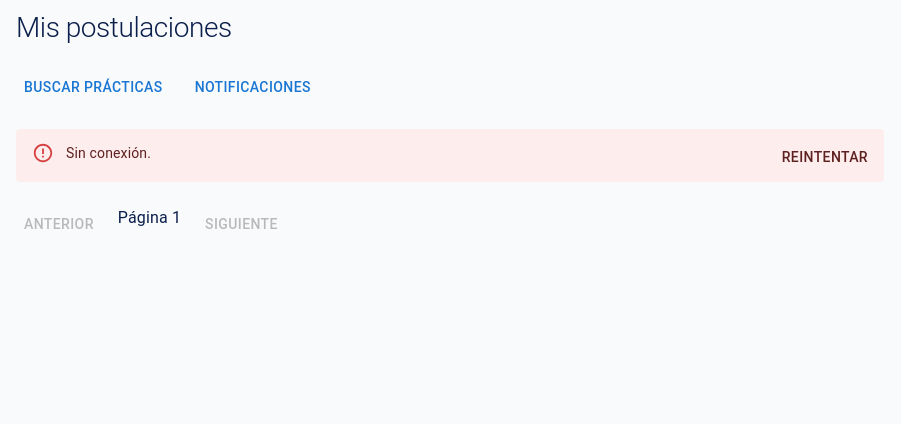
Scenario: MisPostulaciones › si falla la carga: solo el error con «Reintentar», sin «Cargando»; al reintentar aparece la lista
Expected: the message reads "Sin conexión. Reintentar", [16, 129, 884, 182]
Click the button "Reintentar" at (825, 157), box [774, 139, 876, 176]
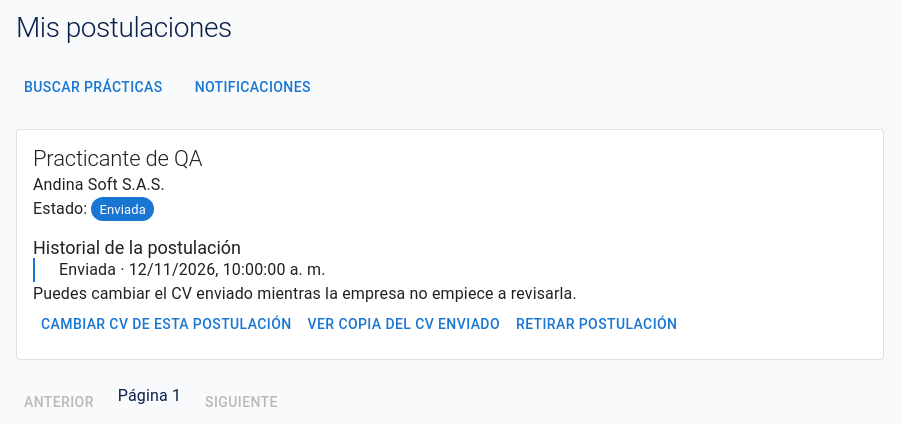
Expected: the heading "Practicante de QA" is shown, [33, 146, 202, 171]
Expected: the message "Sin conexión. Reintentar" is gone
